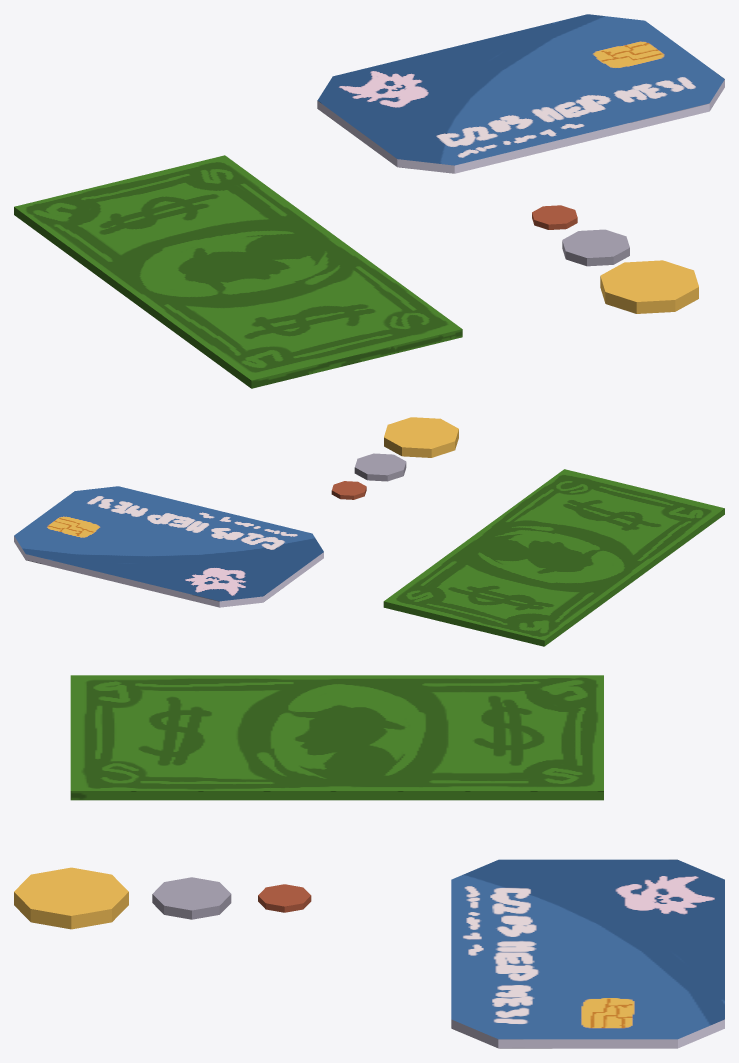
The model's file is Money.fbx.
3 views of the same model, one above another, from view 1: azimuth 30°, elevation 25°; view 2: azimuth 150°, elevation 25°; view 3: azimuth 270°, elevation 25° (orthographic). The views are drawn at different scales.
Parts seen in each view (by area): view 1: Bill, Credit Card, Dollar Coin, Nickel, Penny; view 2: Bill, Credit Card, Dollar Coin, Nickel, Penny; view 3: Bill, Credit Card, Dollar Coin, Nickel, Penny.
Boxes of the visible parts, x1,y1,x2,y2 form: Bill: (14,155,462,388); Credit Card: (317,14,724,173); Dollar Coin: (600,260,698,313); Nickel: (562,229,629,266); Penny: (532,205,577,229); Bill: (383,469,724,646); Credit Card: (14,486,323,607); Dollar Coin: (384,417,458,457); Nickel: (354,453,406,481); Penny: (331,481,366,499); Bill: (70,675,603,800); Credit Card: (451,859,724,1048); Dollar Coin: (14,867,128,929); Nickel: (152,877,231,919); Penny: (258,884,311,912).
Bounding box in the file's own units: 136 × 2.35 × 113.
